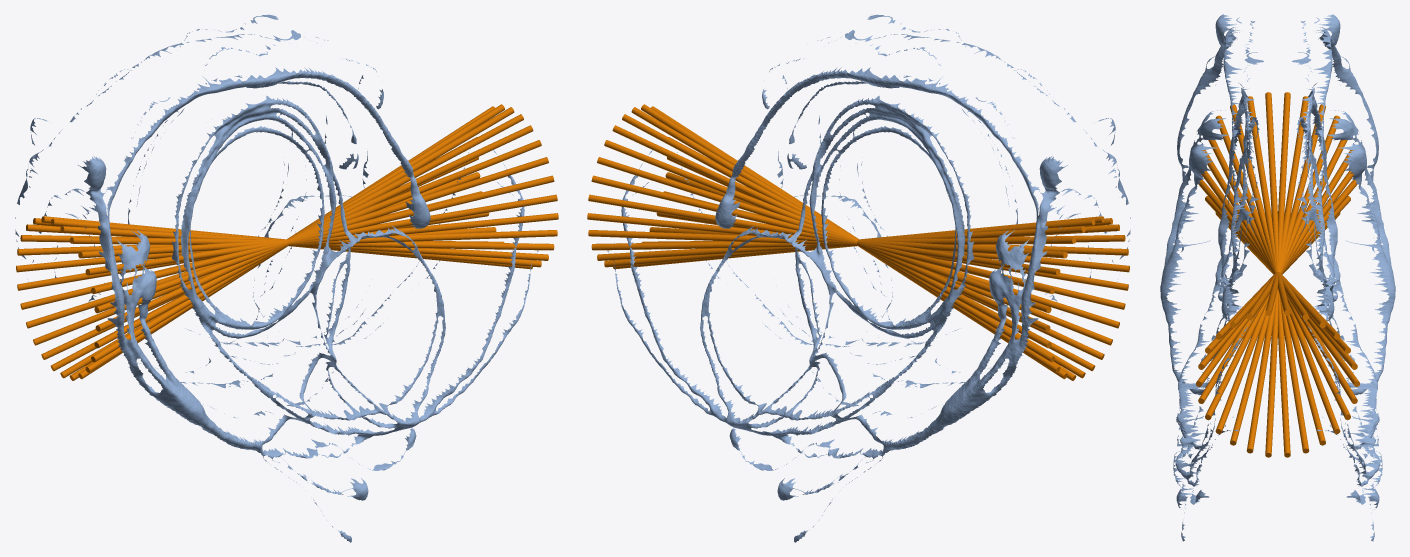
The model's file is A60023110_6150-37-520-3998_DigitalTwin.glb.
The picture shows the model from 3 angles, left to right: view 1: azimuth 30°, elevation 25°; view 2: azimuth 150°, elevation 25°; view 3: azimuth 270°, elevation 25°; orthographic projection. The views are drawn at different scales.
Visible parts, largest first — view 1: world; view 2: world; view 3: world.
Part boxes in pixels (box(x1,y1,x2,y2)): world: box(15, 14, 558, 542); world: box(587, 14, 1130, 542); world: box(1160, 14, 1395, 541).
Bounding box in the file's own units: 324 × 329 × 147.
